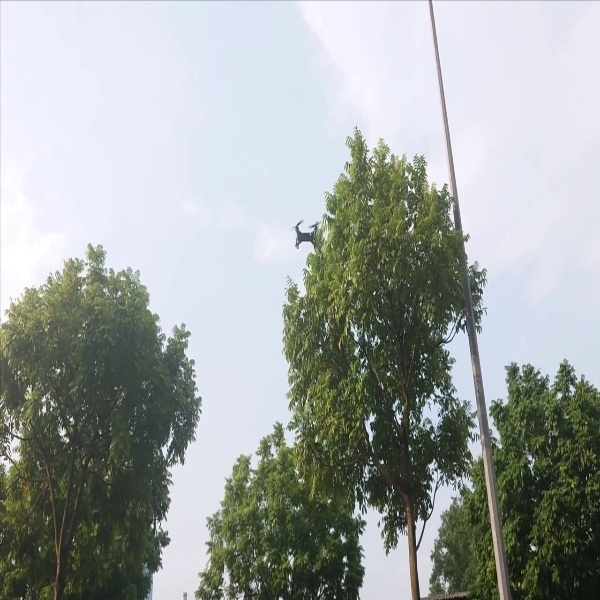drone: (289, 217, 323, 248)
